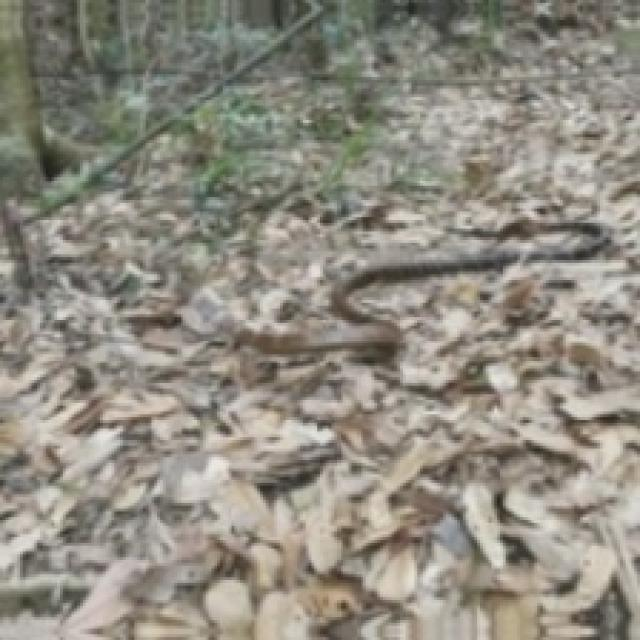king cobra: (234, 220, 609, 354)
